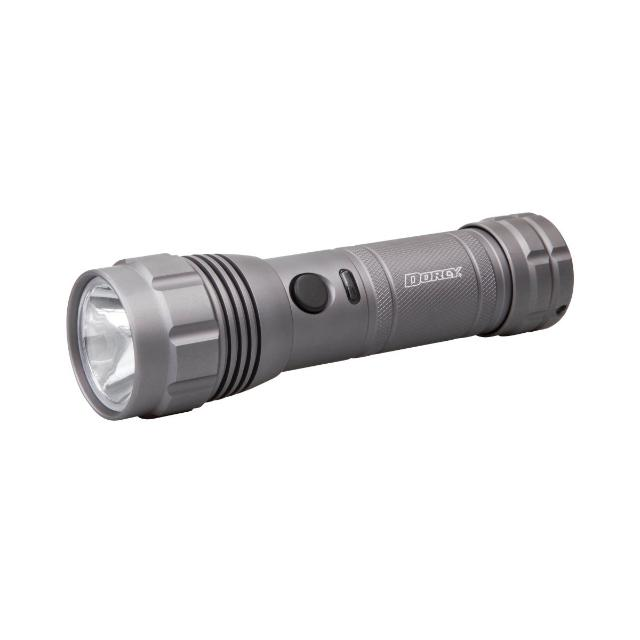Flashlight: (58, 201, 584, 429)
